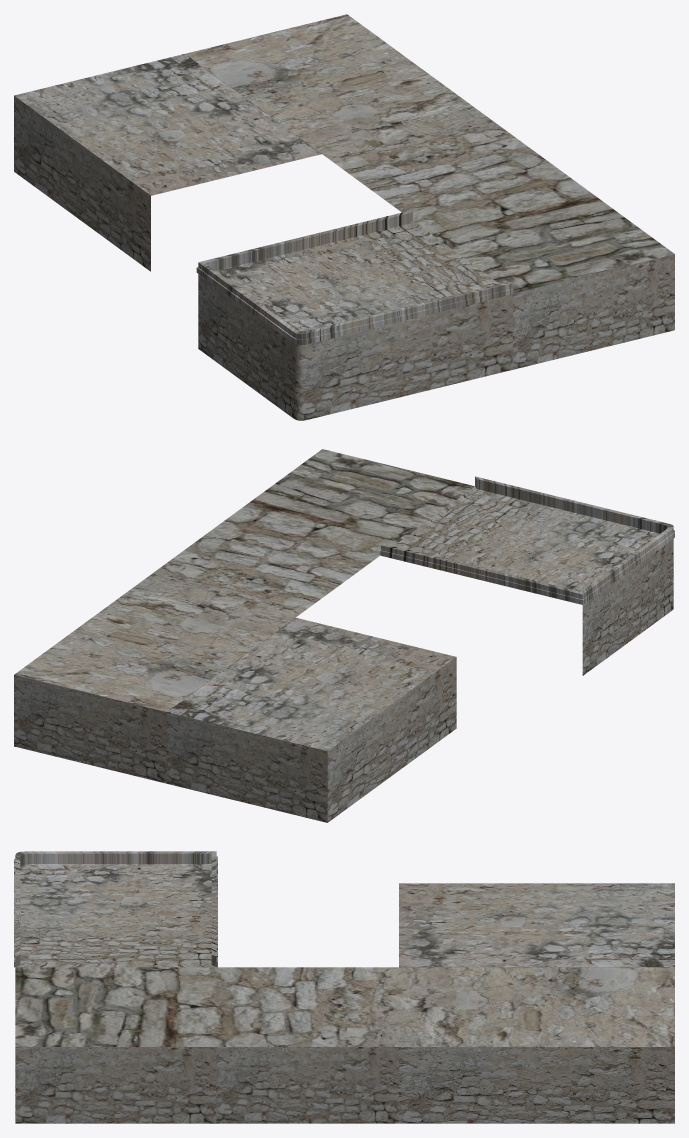
The picture shows the model from 3 angles, top to bottom: view 1: azimuth 30°, elevation 25°; view 2: azimuth 150°, elevation 25°; view 3: azimuth 270°, elevation 25°; orthographic projection. The views are drawn at different scales.
Visible parts, largest first — view 1: 별관하단, 별관하단_lron; view 2: 별관하단, 별관하단_lron; view 3: 별관하단, 별관하단_lron.
Boxes of the visible parts, <box> form: 별관하단: <box>14,14,674,420</box>; 별관하단_lron: <box>196,210,513,345</box>; 별관하단: <box>14,449,673,822</box>; 별관하단_lron: <box>380,476,674,604</box>; 별관하단: <box>15,864,674,1123</box>; 별관하단_lron: <box>14,851,217,967</box>.
Bounding box in the file's own units: 552 × 121 × 832.
